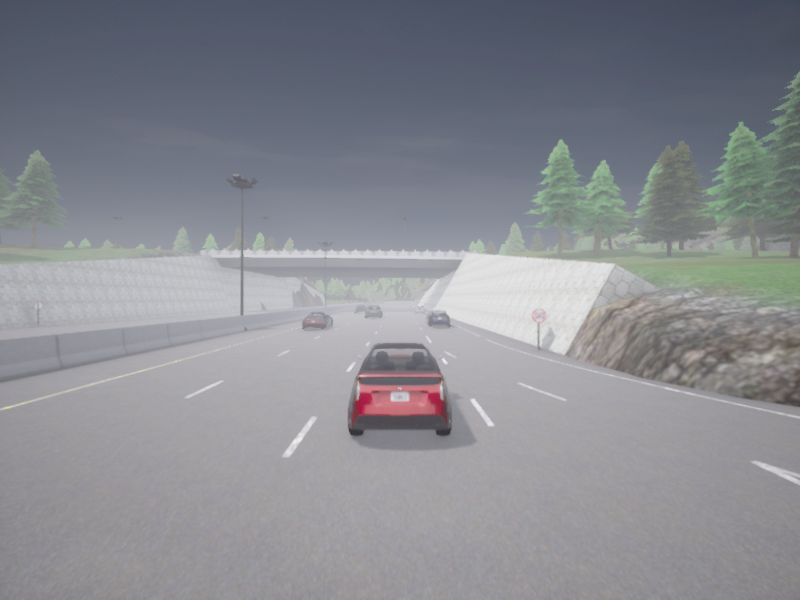vehicle: (347, 342, 451, 435), (302, 312, 332, 328), (426, 310, 450, 326), (366, 305, 382, 317), (355, 305, 367, 312), (414, 305, 424, 312)
